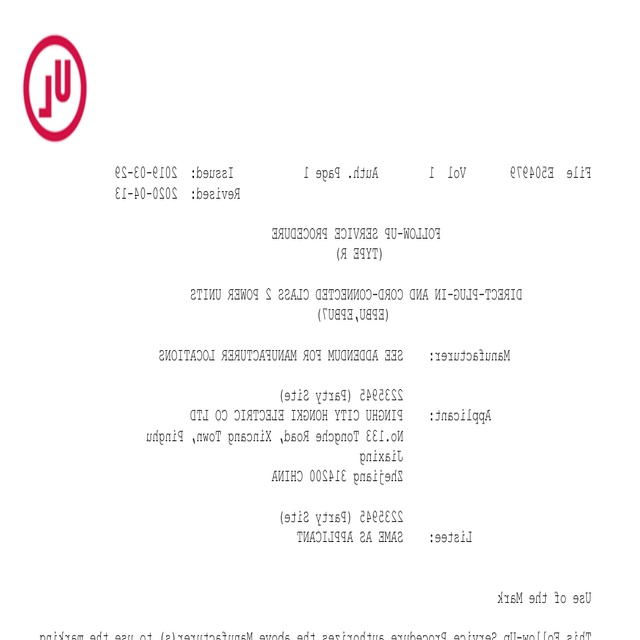ul: (25, 34, 87, 141)
